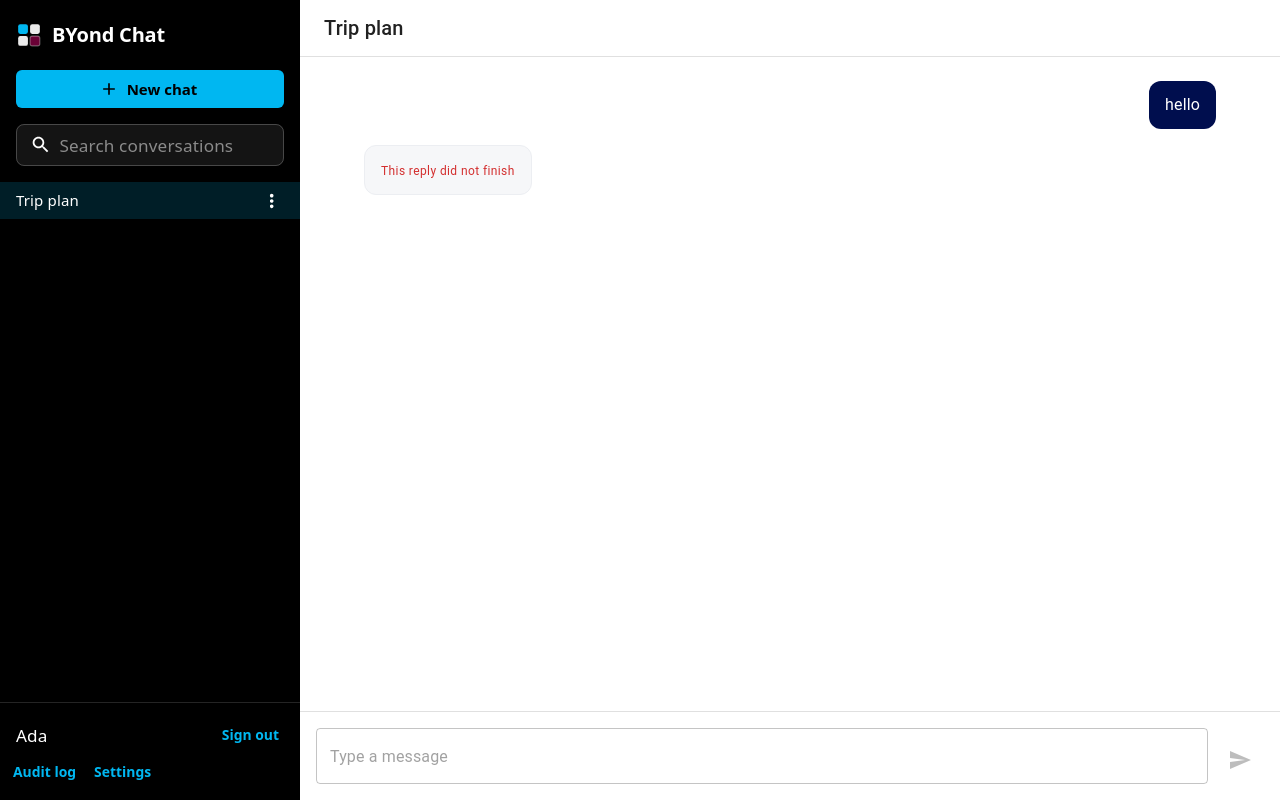
chat › Retry on the error banner asks the same question again
This screenshot has width=1280, height=800.
In the text box labelled "message": (762, 756) [330,744,1194,768], type "hello"
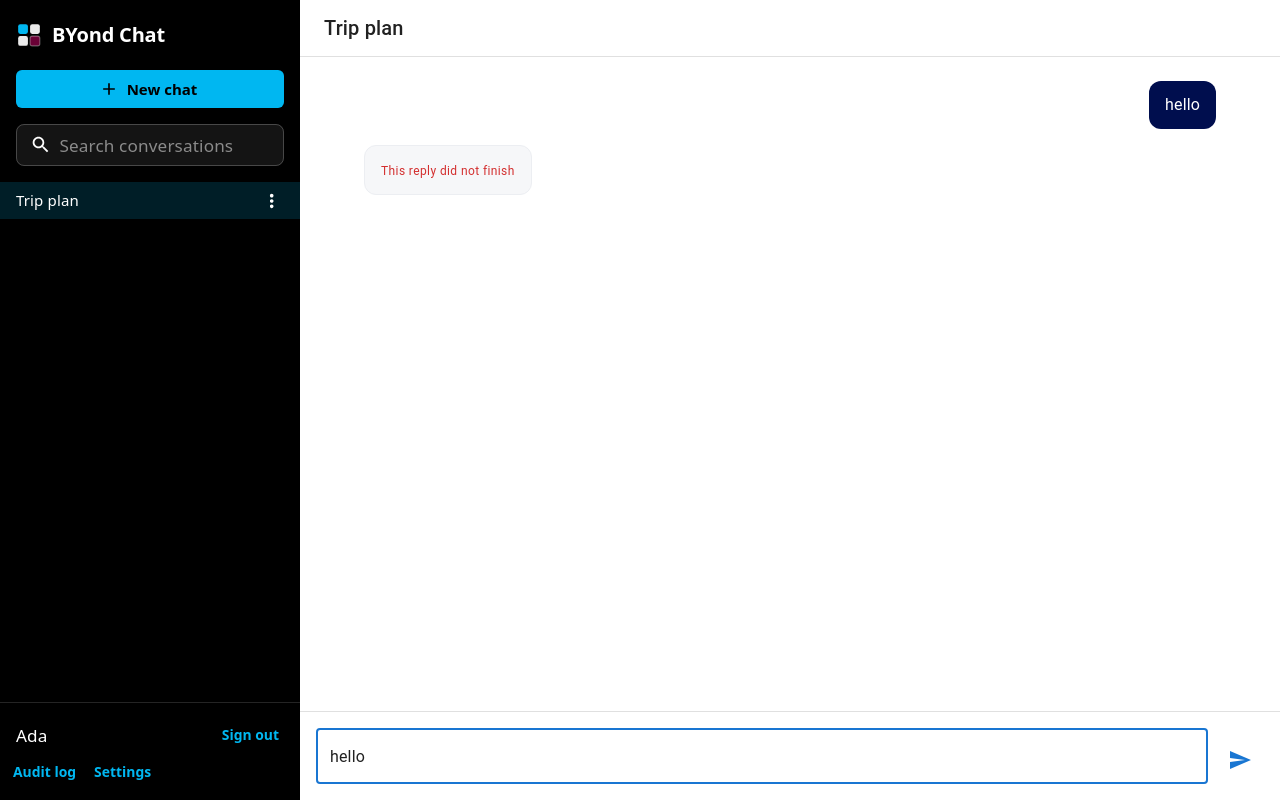
Click the button named "Send message": (1240, 760) [1216,736,1264,784]
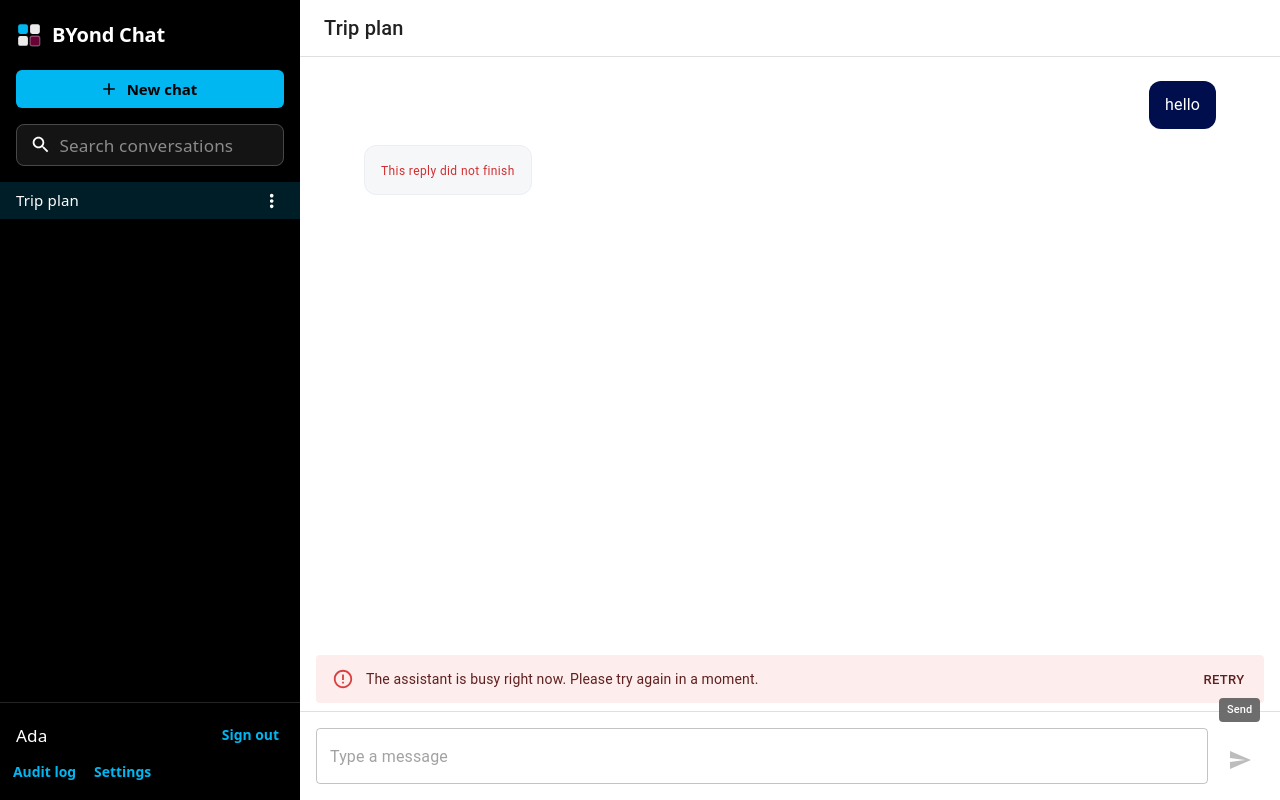
Check: the text "busy right now" is shown, box [366,671,759,687]
Click the button "Retry": (1224, 680) [1192,665,1256,696]
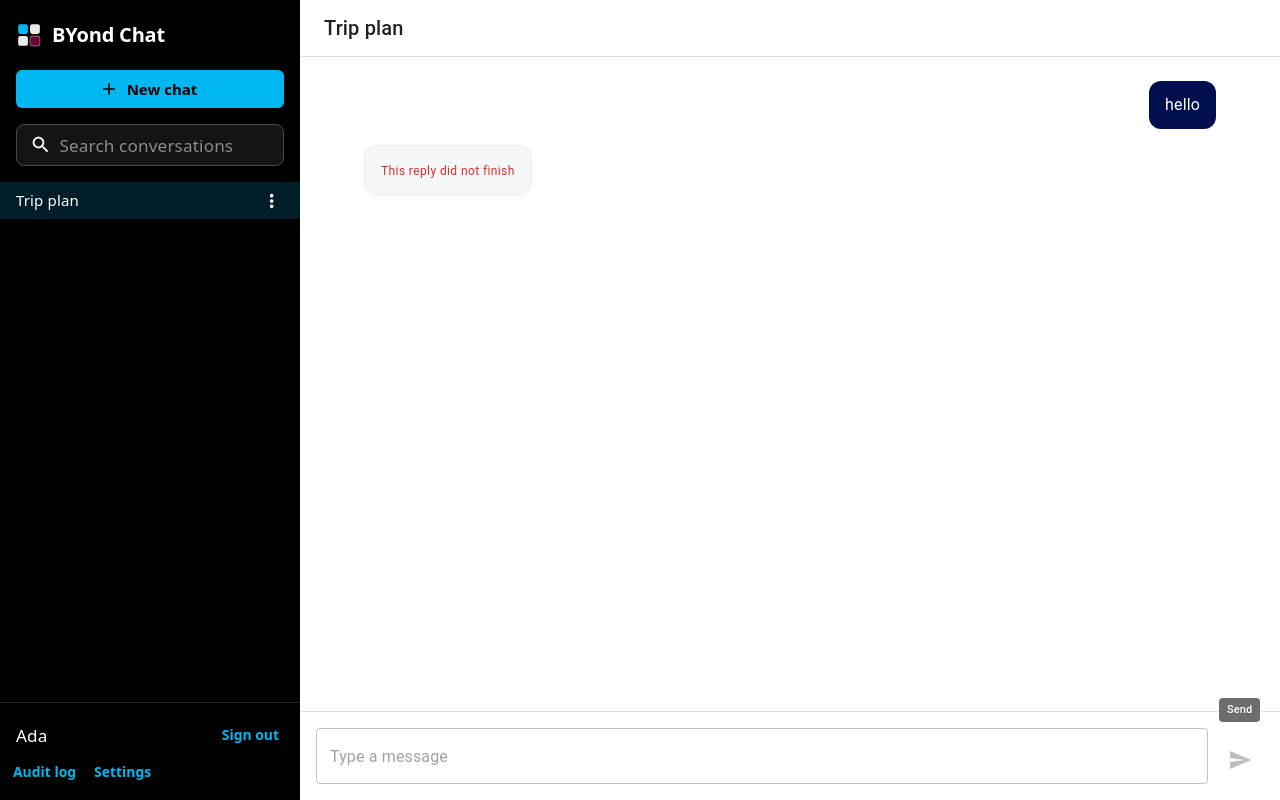
Check: the text "busy right now" is gone
